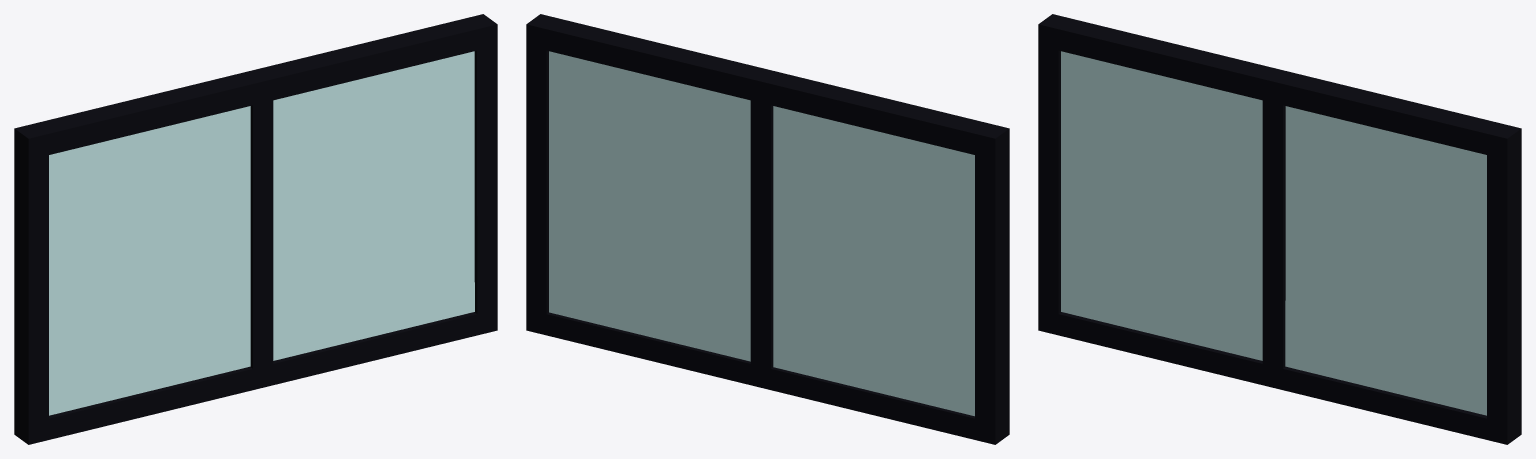
The model's file is Window_03.FBX.
The picture shows the model from 3 angles, left to right: view 1: azimuth 30°, elevation 25°; view 2: azimuth 150°, elevation 25°; view 3: azimuth 330°, elevation 25°; orthographic projection.
Visible parts, largest first — view 1: Object001, Box001; view 2: Object001, Box001; view 3: Object001, Box001.
Part boxes in pixels (x1,y1,x2,y2): Object001: (49, 51, 474, 415); Box001: (14, 14, 497, 444); Object001: (549, 51, 974, 416); Box001: (526, 14, 1009, 444); Object001: (1061, 51, 1486, 415); Box001: (1038, 14, 1521, 444).
Size of the model in its own units: 115 by 71.74 by 6.
2 materials, 1 textured.
